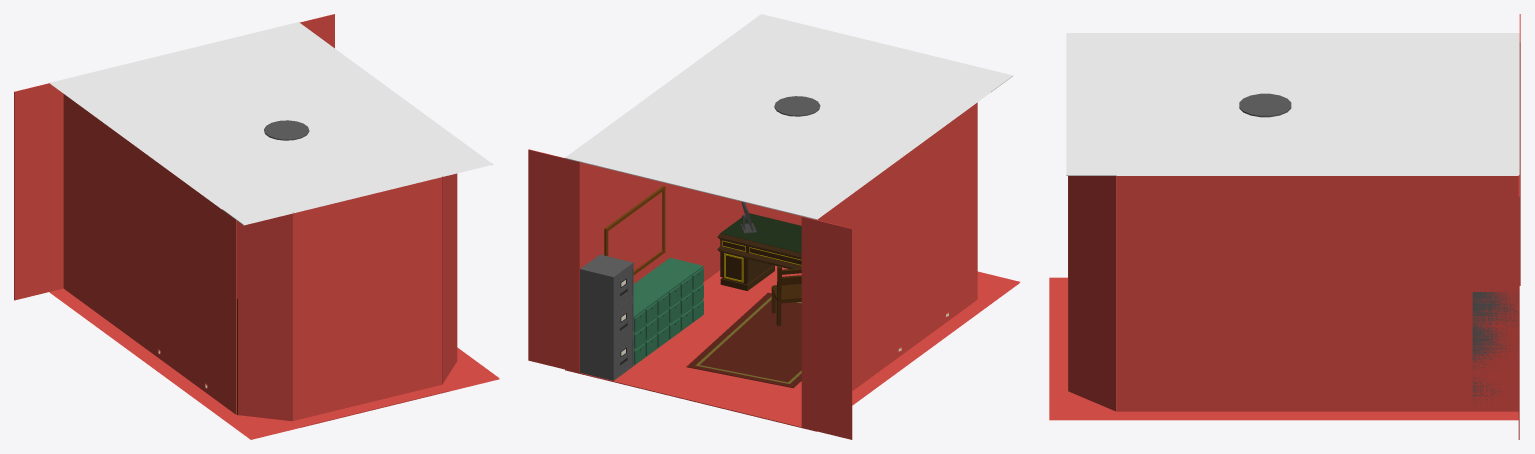
File: GAWAD_Interior.fbx
3 views of the same model, side by side, from view 1: azimuth 30°, elevation 25°; view 2: azimuth 150°, elevation 25°; view 3: azimuth 270°, elevation 25° (orthographic). The views are drawn at different scales.
Visible parts, largest first — view 1: BrickWallLight_Window_V1_1.059, BrickWallLight_Window_V1_1.161, BrickWallLight_Window_V1_1.162, Ceiling.010, Ceiling.013, BrickWallThin_2_B.071, BrickWallThin_2_B.073, BrickWallLight_Window_V1_1.164, Ceiling.015, Ceiling.012, Ceiling.011, Ceiling.014 (+16 smaller); view 2: BrickWallLight_Window_V1_1.161, Ceiling.010, Ceiling.013, BrickWallThin_2_B.073, BrickWallThin_2_B.072, Wood_Floor_Panel.004, Carpet.003, File_Locker, BrickWallLight_Window_V1_1.162, Locker_L, BrickWallLight_Window_V1_1.107, Table.001 (+22 smaller); view 3: BrickWallLight_Window_V1_1.107, BrickWallLight_Window_V1_1.163, Ceiling.010, Ceiling.013, BrickWallLight_Window_V1_1.168, BrickWallLight_Window_V1_1.167, BrickWallThin_2_B.070, Ceiling.011, Ceiling.014, Ceiling.012, Ceiling.015, Ceiling.016 (+10 smaller).
Part boxes in pixels (box(x1,y1,x2,y2)): BrickWallLight_Window_V1_1.059: box(292, 228, 441, 420); BrickWallLight_Window_V1_1.161: box(149, 195, 236, 414); BrickWallLight_Window_V1_1.162: box(63, 132, 149, 351); Ceiling.010: box(100, 34, 334, 133); Ceiling.013: box(186, 97, 420, 196); BrickWallThin_2_B.071: box(236, 258, 292, 421); BrickWallThin_2_B.073: box(14, 132, 63, 300); BrickWallLight_Window_V1_1.164: box(292, 177, 441, 264); Ceiling.015: box(136, 133, 271, 209); Ceiling.012: box(49, 70, 185, 146); Ceiling.011: box(249, 22, 384, 97); Ceiling.014: box(335, 85, 470, 160); BrickWallLight_Window_V1_1.161: box(890, 142, 977, 363); Ceiling.010: box(615, 106, 853, 207); Ceiling.013: box(703, 42, 940, 142); BrickWallThin_2_B.073: box(801, 269, 852, 439); BrickWallThin_2_B.072: box(528, 202, 578, 372); Wood_Floor_Panel.004: box(615, 318, 801, 419); Carpet.003: box(686, 292, 801, 388); File_Locker: box(580, 254, 633, 380); BrickWallLight_Window_V1_1.162: box(852, 206, 889, 390); Locker_L: box(633, 257, 703, 365); BrickWallLight_Window_V1_1.107: box(667, 183, 754, 282); Table.001: box(717, 213, 801, 290); BrickWallLight_Window_V1_1.107: box(1116, 229, 1317, 411); BrickWallLight_Window_V1_1.163: box(1318, 229, 1518, 411); Ceiling.010: box(1318, 61, 1519, 146); Ceiling.013: box(1116, 61, 1317, 146); BrickWallLight_Window_V1_1.168: box(1116, 176, 1317, 228); BrickWallLight_Window_V1_1.167: box(1318, 176, 1518, 228); BrickWallThin_2_B.070: box(1068, 209, 1116, 411); Ceiling.011: box(1318, 146, 1519, 175); Ceiling.014: box(1116, 146, 1317, 175); Ceiling.012: box(1318, 33, 1519, 61); Ceiling.015: box(1116, 33, 1317, 61); Ceiling.016: box(1066, 61, 1116, 146).
Size of the model in its own units: 429 by 270 by 468.
Materials: 27 (12 with a texture image).
